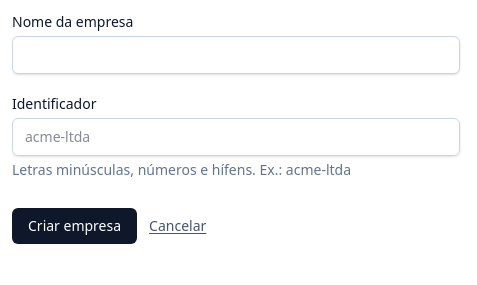
Test: EmpresaForm — a validação no cliente › nome vazio pede o nome e NÃO despacha a Action
Type "acme" into the field labelled "Identificador" at coordinates (236, 137), box [12, 118, 460, 156]
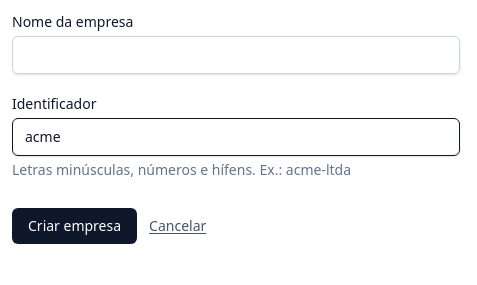
Click the button "Criar empresa" at coordinates (75, 226), box [12, 208, 137, 244]
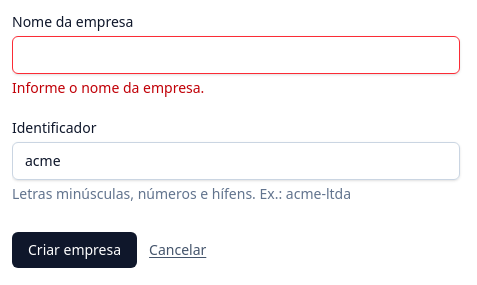
Now the text "Informe o nome da empresa." is shown, box [12, 78, 204, 97]
